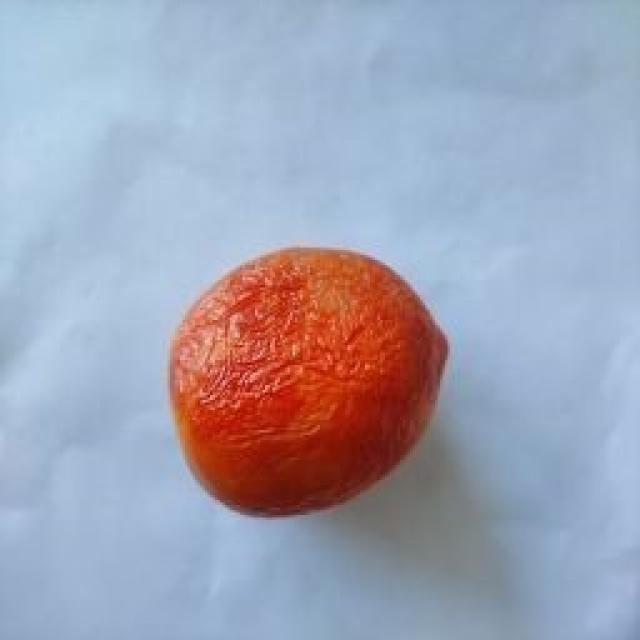overripe: (162, 241, 456, 523)
